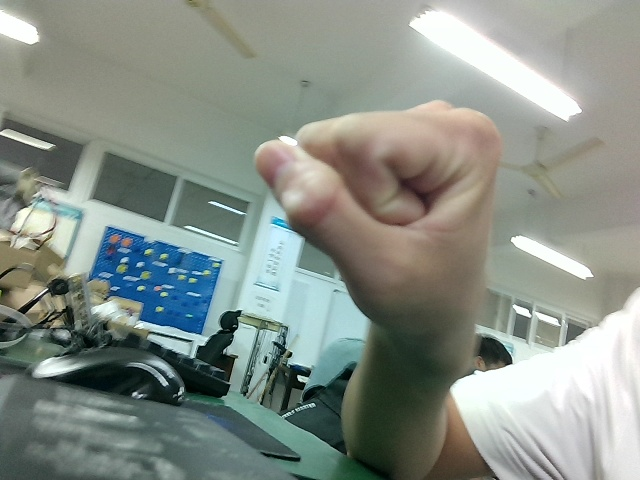stone: (250, 87, 511, 360)
